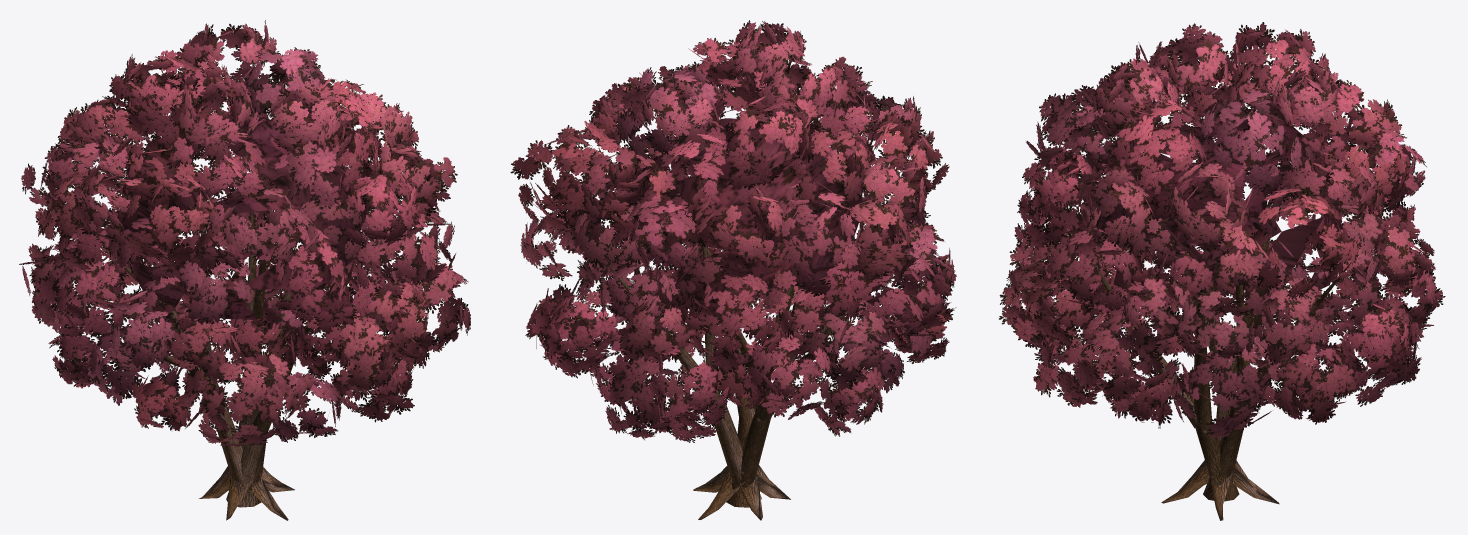
The model's file is mm6_deco_tree04.glb.
3 views of the same model, side by side, from view 1: azimuth 30°, elevation 25°; view 2: azimuth 150°, elevation 25°; view 3: azimuth 270°, elevation 25° (orthographic).
Visible parts, largest first — view 1: Tree; view 2: Tree; view 3: Tree.
Boxes of the visible parts, x1=… form: Tree: x1=19, y1=20, x2=470, y2=520; Tree: x1=510, y1=20, x2=956, y2=520; Tree: x1=999, y1=22, x2=1445, y2=520.
Bounding box in the file's own units: 5.68 × 6.16 × 5.75.
3 materials, 3 textured.
